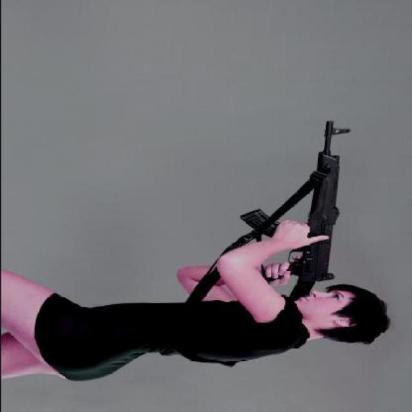Gun: (238, 120, 356, 306)
